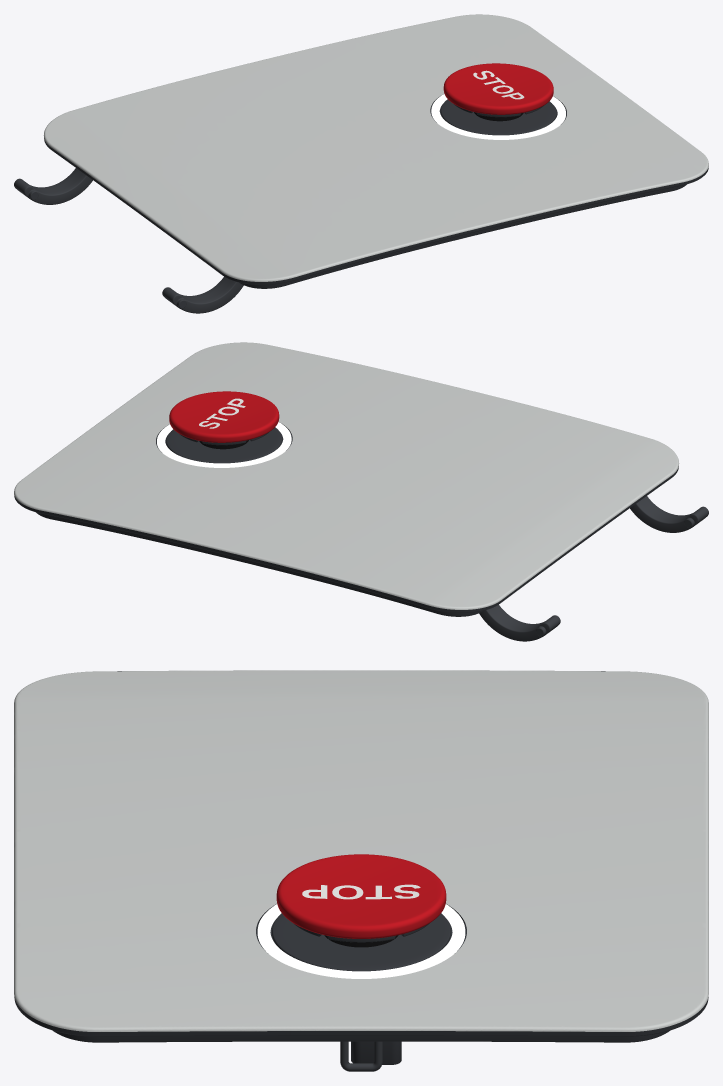
The model's file is lid.glb.
3 renders of one model, top to bottom at view 1: azimuth 30°, elevation 25°; view 2: azimuth 150°, elevation 25°; view 3: azimuth 270°, elevation 25°, orthographic. The views are drawn at different scales.
Visible parts, largest first — view 1: Lid, StopKey, LidKit; view 2: Lid, StopKey, LidKit; view 3: Lid, StopKey, LidKit.
Boxes of the visible parts, x1,y1,x2,y2 form: Lid: (43,14,708,281); StopKey: (430,63,566,139); LidKit: (14,95,708,313); Lid: (14,342,679,609); StopKey: (156,391,292,467); LidKit: (14,425,708,641); Lid: (14,670,708,1031); StopKey: (256,854,466,1064); LidKit: (14,671,708,1071).
Size of the model in its own units: 0.22 by 0.0342 by 0.164.
